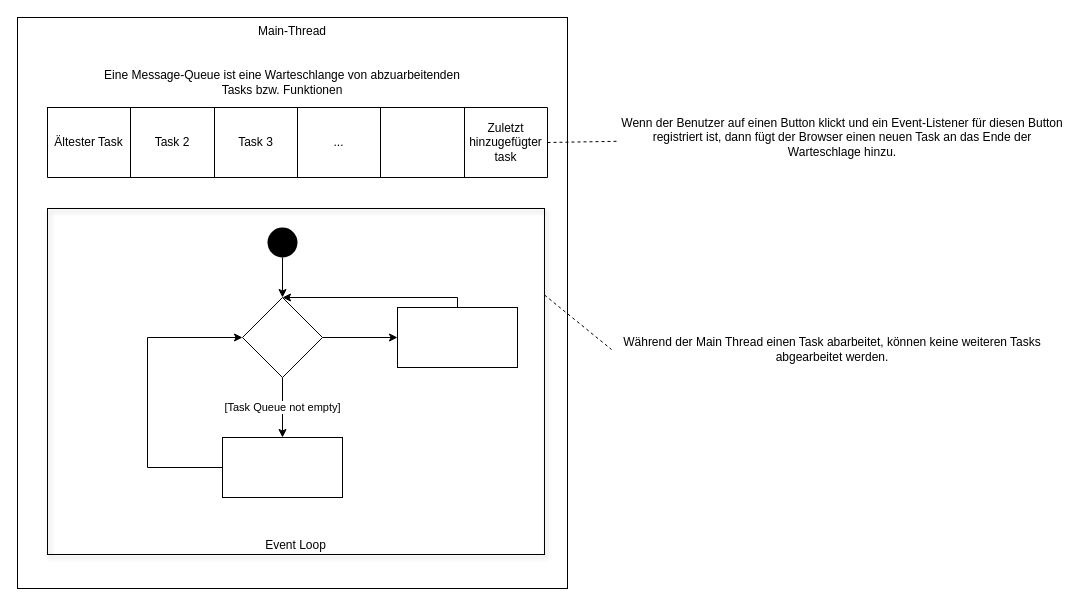
This 1085x606 diagram has some shape labels left out. The centre of each missing label's shape, as x and y in pixels:
Nimm ältesten Task und bearbeite ihn bis zum Ende: the point at 282,467
Warte eine Weile: the point at 457,337
